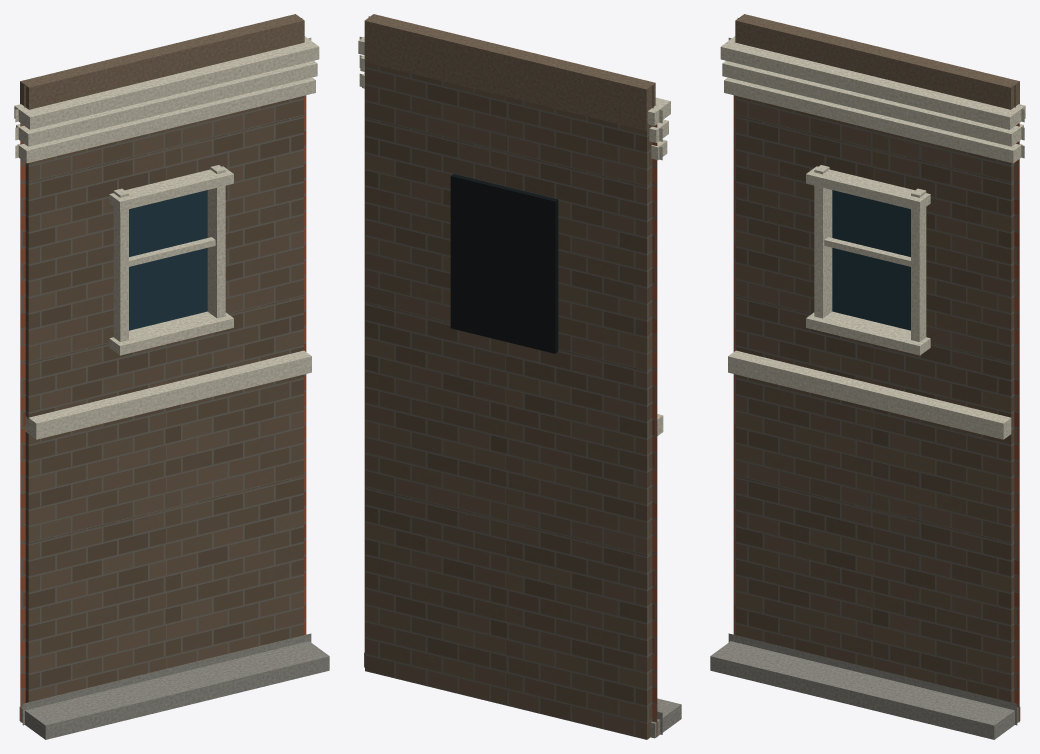
File: WHSE13_lod2.glb
3 renders of one model, left to right at view 1: azimuth 30°, elevation 25°; view 2: azimuth 150°, elevation 25°; view 3: azimuth 330°, elevation 25°, orthographic. The views are drawn at different scales.
Visible parts, largest first — view 1: WHSE13_FRONT_LOD2; view 2: WHSE13_FRONT_LOD2; view 3: WHSE13_FRONT_LOD2.
Boxes of the visible parts, x1,y1,x2,y2 form: WHSE13_FRONT_LOD2: (14, 14, 329, 739); WHSE13_FRONT_LOD2: (358, 14, 681, 739); WHSE13_FRONT_LOD2: (710, 14, 1025, 739).
Size of the model in its own units: 3.44 by 7.05 by 0.65.
8 materials, 6 textured.
